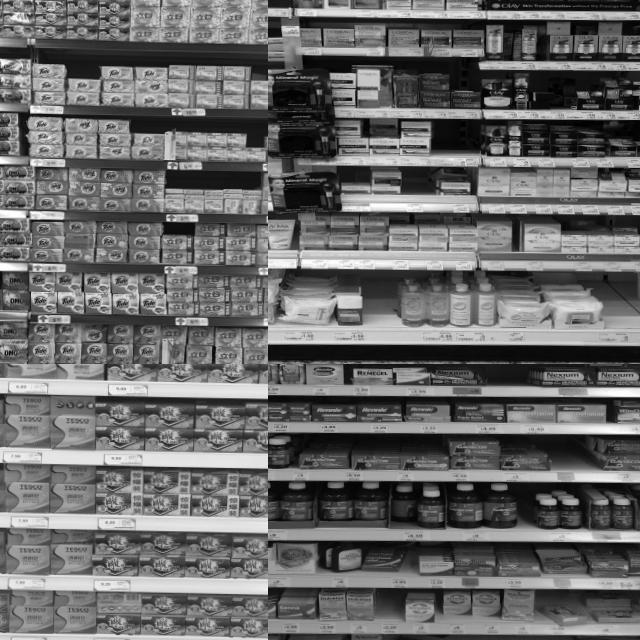100- O.O.S: (603, 276, 640, 341), (363, 275, 398, 341), (434, 120, 478, 167), (402, 168, 428, 212), (552, 438, 578, 482), (517, 483, 534, 541), (382, 590, 404, 634), (489, 364, 515, 395)
